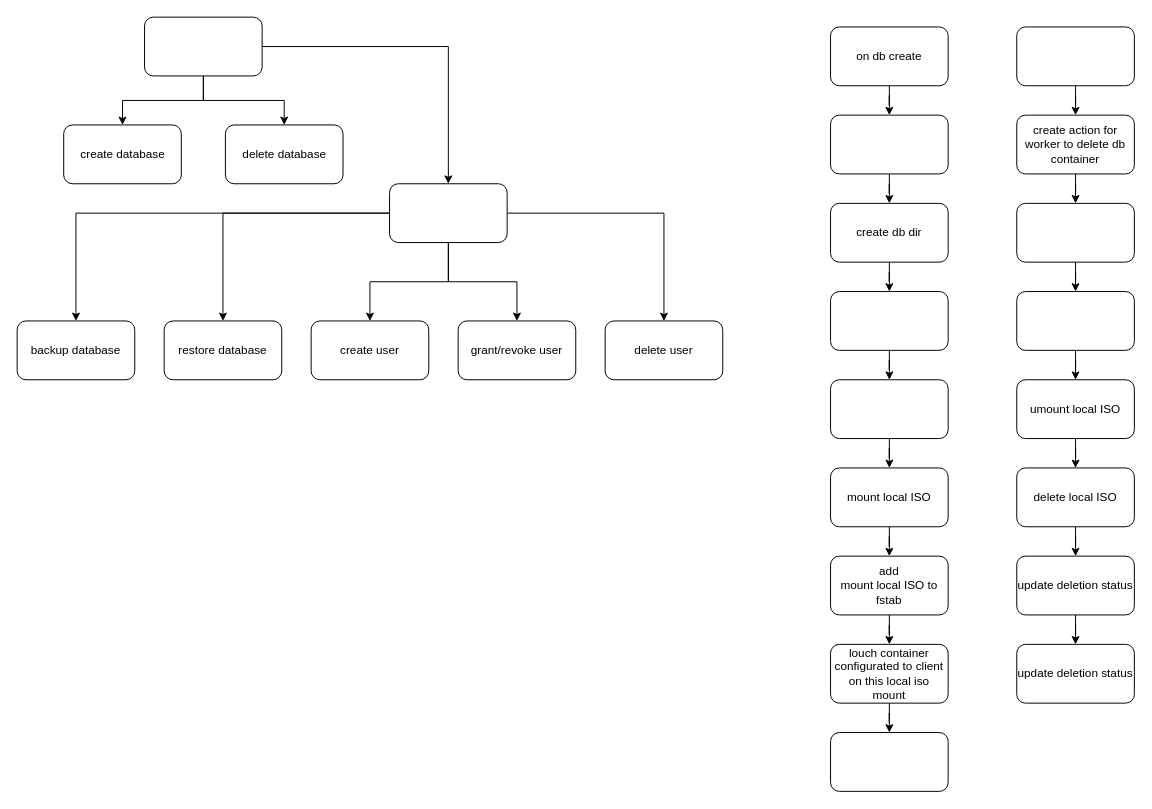
Image size: 1152x809. Some labels were removed from this diagram. The shapes that lost their labels are listed below. From the top down, each one's box as (x1, y1, x2, y2) in pixels, then its label:
(144, 16, 262, 76): /databases/
(1016, 26, 1134, 86): on db delete
(830, 114, 948, 174): create action for worker to run a new db container
(389, 183, 507, 243): manage databases
(1016, 202, 1134, 262): delete container
(830, 291, 948, 350): create local ISO
(1016, 291, 1134, 350): remove mount local ISO from fstab
(830, 379, 948, 439): mkfs on iso
(830, 732, 948, 791): update creation status
